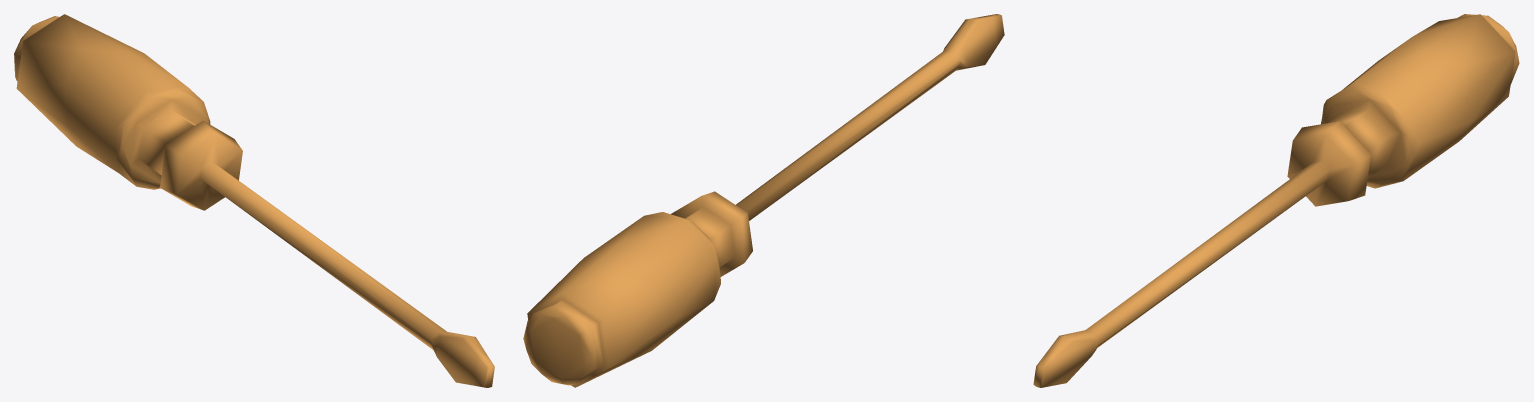
Rendered from screwdriver2_6.dae.
3 renders of one model, left to right at view 1: azimuth 30°, elevation 25°; view 2: azimuth 150°, elevation 25°; view 3: azimuth 330°, elevation 25°, orthographic.
Parts seen in each view (by area): view 1: screwdriver2_019; view 2: screwdriver2_019; view 3: screwdriver2_019.
Part boxes in pixels (x1=…): screwdriver2_019: x1=14, y1=14, x2=494, y2=387; screwdriver2_019: x1=523, y1=14, x2=1004, y2=387; screwdriver2_019: x1=1033, y1=14, x2=1519, y2=387.
Bounding box in the file's own units: 0.0446 × 0.3474 × 0.0445.
